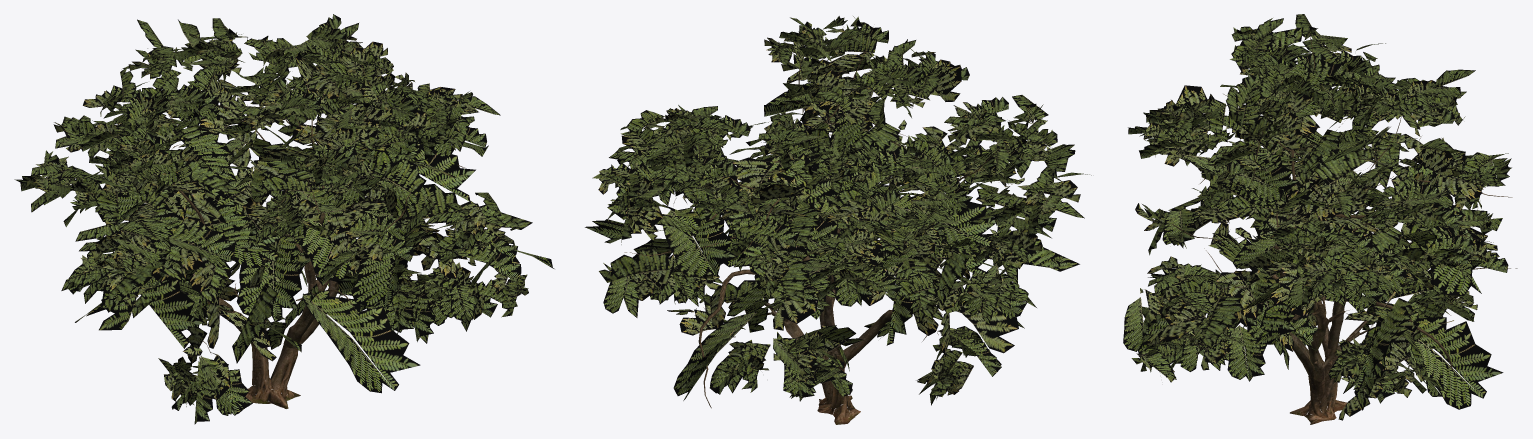
Rendered from tree_tall.glb.
3 renders of one model, left to right at view 1: azimuth 30°, elevation 25°; view 2: azimuth 150°, elevation 25°; view 3: azimuth 270°, elevation 25°, orthographic. The views are drawn at different scales.
Visible parts, largest first — view 1: tree_tall; view 2: tree_tall; view 3: tree_tall.
Part boxes in pixels (left/top/right/bottom): tree_tall: left=14, top=14, right=554, bottom=424; tree_tall: left=585, top=16, right=1091, bottom=424; tree_tall: left=1123, top=14, right=1517, bottom=424.
Size of the model in its own units: 7.3 by 5.4 by 5.38.
3 materials, 3 textured.
